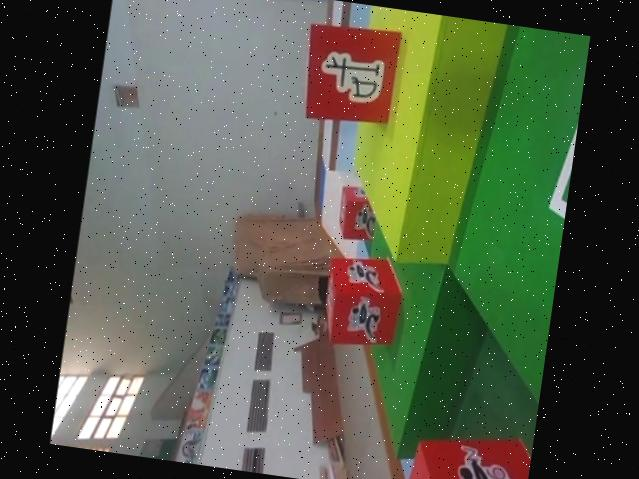R1: (313, 249, 411, 353), (394, 425, 532, 479), (332, 181, 385, 245)
R2 Real: (294, 15, 407, 130)
